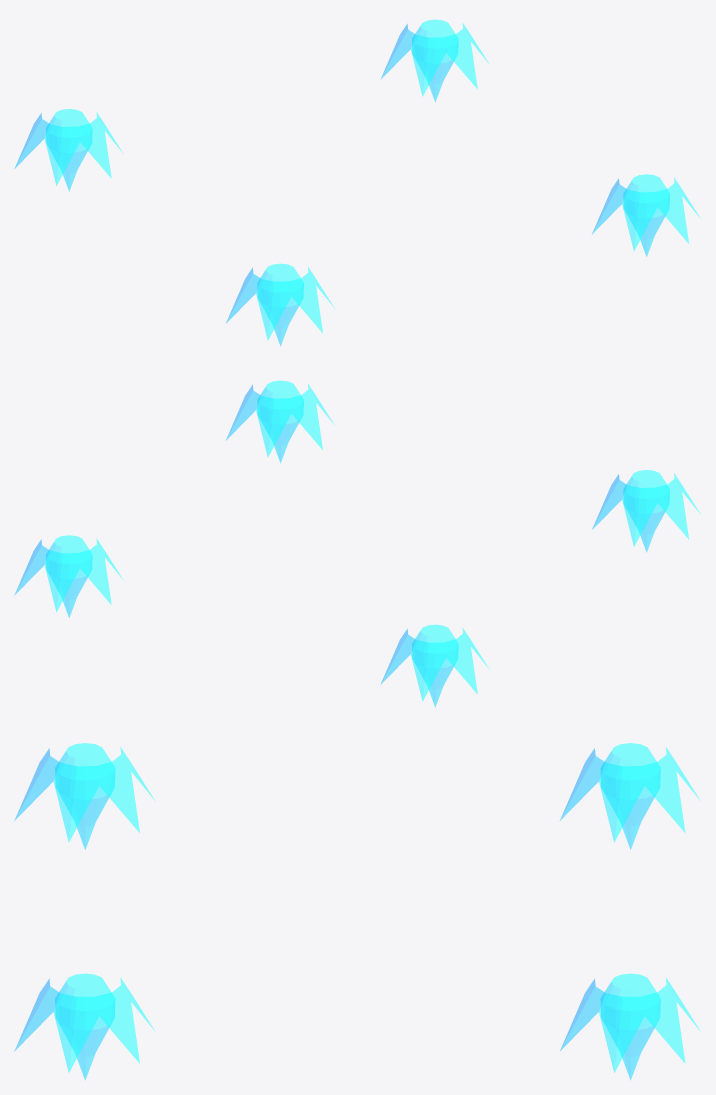
The model's file is rocketFlames.glb.
3 renders of one model, top to bottom at view 1: azimuth 30°, elevation 25°; view 2: azimuth 150°, elevation 25°; view 3: azimuth 270°, elevation 25°, orthographic. The views are drawn at different scales.
Parts seen in each view (by area): view 1: flameOuter (1), flameOuter (2), flameOuter, flameOuter (3), flameInner (3), flameInner (1), flameInner (2), flameInner; view 2: flameOuter (3), flameOuter (1), flameOuter (2), flameOuter, flameInner, flameInner (2), flameInner (1), flameInner (3); view 3: flameOuter, flameOuter (2), flameOuter (3), flameOuter (1), flameInner (3), flameInner, flameInner (1), flameInner (2).
Boxes of the visible parts, <box> form: flameOuter (1): <box>226,267,334,340</box>; flameOuter (2): <box>14,112,123,185</box>; flameOuter: <box>592,178,699,250</box>; flameOuter (3): <box>380,23,488,96</box>; flameInner (3): <box>412,19,458,101</box>; flameInner (1): <box>257,263,303,346</box>; flameInner (2): <box>46,109,92,191</box>; flameInner: <box>623,174,669,256</box>; flameOuter (3): <box>14,538,122,612</box>; flameOuter (1): <box>592,473,700,546</box>; flameOuter (2): <box>380,628,489,701</box>; flameOuter: <box>226,384,333,456</box>; flameInner: <box>257,380,303,462</box>; flameInner (2): <box>412,624,458,707</box>; flameInner (1): <box>623,470,669,552</box>; flameInner (3): <box>46,535,92,617</box>; flameOuter: <box>14,977,154,1072</box>; flameOuter (2): <box>560,747,700,842</box>; flameOuter (3): <box>560,978,700,1072</box>; flameOuter (1): <box>14,747,154,842</box>; flameInner (3): <box>600,973,660,1080</box>; flameInner: <box>55,973,115,1080</box>; flameInner (1): <box>55,743,115,849</box>; flameInner (2): <box>600,743,660,849</box>.
Bounding box in the file's own units: 1.99 × 0.3147 × 1.98.
